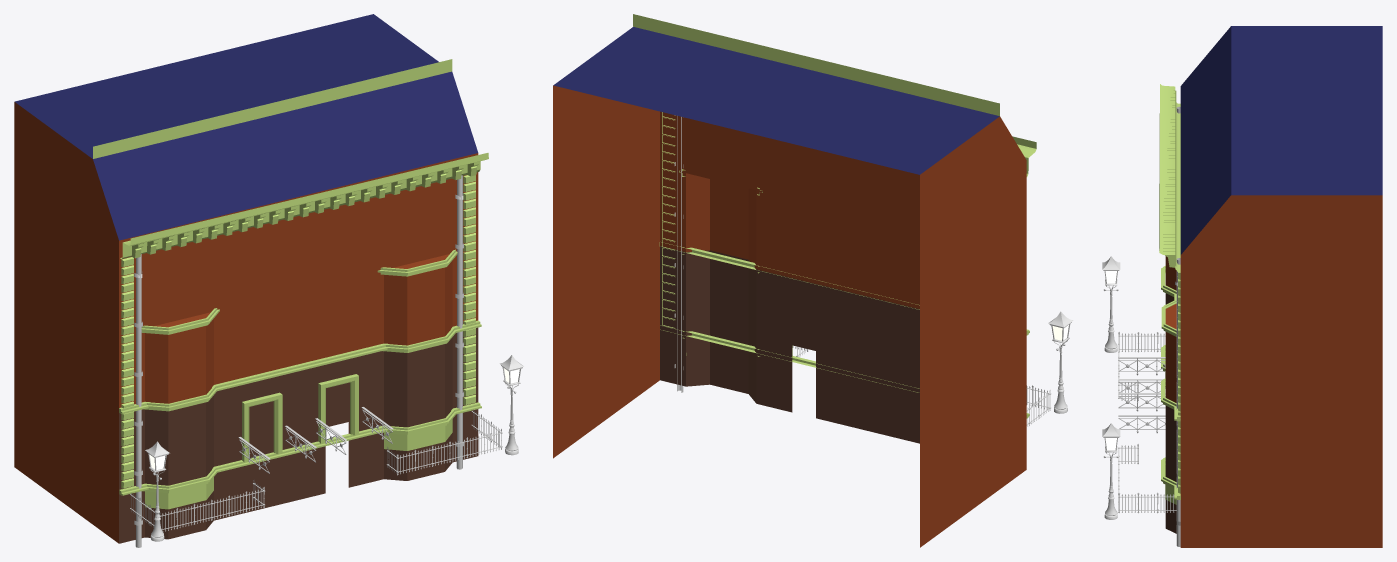
File: Empty_Torben_House.fbx
The picture shows the model from 3 angles, left to right: view 1: azimuth 30°, elevation 25°; view 2: azimuth 150°, elevation 25°; view 3: azimuth 270°, elevation 25°; orthographic projection. The views are drawn at different scales.
Visible parts, largest first — view 1: Building_Base, pCube280.001, pCube259.001, geo_Corner_Stones41.001, geo_Corner_Stones41.002, geo_Drainage_Pipe1.001, geo_Drainage_Pipe1, pCube280.004, pCube280.005, pCube280.003, pCube280.002, Lantern (+3 smaller); view 2: Building_Base, pCube280.001, Lantern, pCube280.005, geo_Corner_Stones41.002, pCube280.004, geo_Drainage_Pipe1.001; view 3: Building_Base, pCube280.001, Lantern.003, Lantern, pCube259.001, geo_Drainage_Pipe1.001, geo_Corner_Stones41.002, geo_UpperConntector2.001, geo_UpperConntector2.017, geo_UpperConntector2.003, geo_UpperConntector2.002.
Part boxes in pixels (<box>): Building_Base: <box>14,14,478,543</box>; pCube280.001: <box>93,59,488,509</box>; pCube259.001: <box>131,161,479,258</box>; geo_Corner_Stones41.001: <box>121,257,133,488</box>; geo_Corner_Stones41.002: <box>463,175,475,404</box>; geo_Drainage_Pipe1.001: <box>455,175,463,469</box>; geo_Drainage_Pipe1: <box>134,254,142,547</box>; pCube280.004: <box>119,320,481,414</box>; pCube280.005: <box>119,402,481,495</box>; pCube280.003: <box>242,392,282,462</box>; pCube280.002: <box>318,374,358,443</box>; Lantern: <box>145,441,169,541</box>; Building_Base: <box>553,27,1026,547</box>; pCube280.001: <box>633,14,1036,355</box>; Lantern: <box>1048,311,1073,413</box>; pCube280.005: <box>660,325,1029,418</box>; geo_Corner_Stones41.002: <box>662,112,675,328</box>; pCube280.004: <box>659,242,1029,335</box>; geo_Drainage_Pipe1.001: <box>674,115,683,392</box>; Building_Base: <box>1165,26,1382,547</box>; pCube280.001: <box>1159,84,1180,504</box>; Lantern.003: <box>1102,423,1120,519</box>; Lantern: <box>1102,256,1120,352</box>; pCube259.001: <box>1163,90,1176,267</box>; geo_Drainage_Pipe1.001: <box>1175,258,1180,546</box>; geo_Corner_Stones41.002: <box>1177,272,1180,493</box>; geo_UpperConntector2.001: <box>1118,393,1165,411</box>; geo_UpperConntector2.017: <box>1118,357,1165,375</box>; geo_UpperConntector2.003: <box>1118,379,1165,395</box>; geo_UpperConntector2.002: <box>1118,415,1165,433</box>.
Size of the model in its own units: 888 by 882 by 604.
